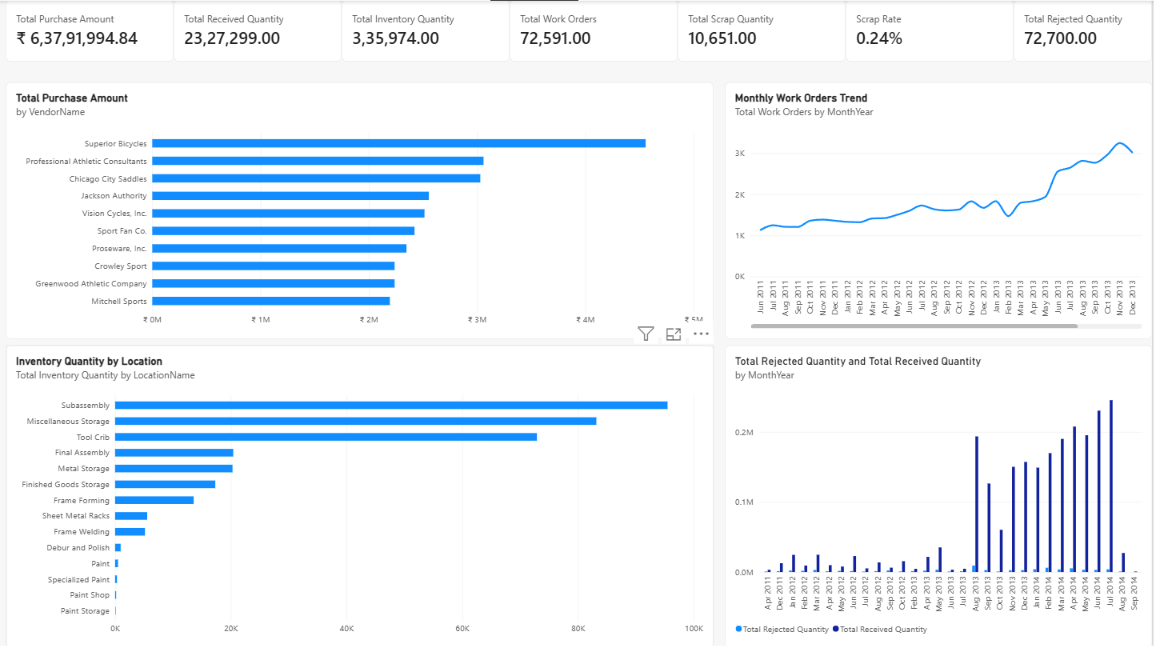

The page's visual inventory and layout, read from the dashboard file:
{"tool":"powerbi","page":{"name":"Supply Chain & Operations","canvas":[1920,1080],"ordinal":4},"visuals":[{"type":"cardVisual","title":"Total Purchase Amount.","fields":{"Data":["fact FactPurchases.Total Purchase Amount"]},"box":[10.3,0,279.9,105],"z":0},{"type":"cardVisual","title":"Total Purchase Amount.","fields":{"Data":["fact FactPurchases.Total Received Quantity"]},"box":[290.2,0,279.9,105],"z":1},{"type":"cardVisual","title":"Total Purchase Amount.","fields":{"Data":["fact FactInventory.Total Inventory Quantity"]},"box":[570.2,0,279.9,105],"z":2},{"type":"cardVisual","title":"Total Purchase Amount.","fields":{"Data":["fact FactWorkOrders.Total Work Orders"]},"box":[850.1,0,279.9,105],"z":3},{"type":"cardVisual","title":"Total Purchase Amount.","fields":{"Data":["fact FactWorkOrders.Total Scrap Quantity"]},"box":[1130,0,279.9,105],"z":4},{"type":"cardVisual","title":"Total Purchase Amount.","fields":{"Data":["fact FactWorkOrders.Scrap Rate"]},"box":[1410,0,279.9,105],"z":5},{"type":"clusteredBarChart","fields":{"Category":["dim DimVendor.VendorName"],"Y":["fact FactPurchases.Total Purchase Amount"]},"box":[10.3,137.9,1179.4,428.1],"z":6},{"type":"clusteredBarChart","title":"Inventory Quantity by Location","fields":{"Category":["dim DimLocation.LocationName"],"Y":["fact FactInventory.Total Inventory Quantity"]},"box":[10.3,576.3,1179.4,504.3],"z":7},{"type":"lineChart","title":"Monthly Work Orders Trend","fields":{"Category":["dim DimDate.MonthYear"],"Y":["fact FactWorkOrders.Total Work Orders"]},"box":[1208.2,137.9,712.2,428.1],"z":8},{"type":"cardVisual","title":"Total Purchase Amount.","fields":{"Data":["fact FactPurchases.Total Rejected Quantity"]},"box":[1689.9,0,230.5,105],"z":9},{"type":"clusteredColumnChart","fields":{"Category":["dim DimDate.MonthYear"],"Y":["fact FactPurchases.Total Rejected Quantity","fact FactPurchases.Total Received Quantity"]},"box":[1208.2,576.3,712.2,504.3],"z":10}]}

Visuals, with their boxes in screenshot pixels (x1, y1, x2, y2), scaled from the page's 1920x1080 canvas onto the 1154x646 screenshot:
"Total Purchase Amount." cardVisual: Rect(6, 0, 174, 63)
"Total Purchase Amount." cardVisual: Rect(174, 0, 343, 63)
"Total Purchase Amount." cardVisual: Rect(343, 0, 511, 63)
"Total Purchase Amount." cardVisual: Rect(511, 0, 679, 63)
"Total Purchase Amount." cardVisual: Rect(679, 0, 847, 63)
"Total Purchase Amount." cardVisual: Rect(847, 0, 1016, 63)
clusteredBarChart - dim DimVendor.VendorName x fact FactPurchases.Total Purchase Amount: Rect(6, 82, 715, 339)
"Inventory Quantity by Location" clusteredBarChart: Rect(6, 345, 715, 645)
"Monthly Work Orders Trend" lineChart: Rect(726, 82, 1153, 339)
"Total Purchase Amount." cardVisual: Rect(1016, 0, 1153, 63)
clusteredColumnChart - dim DimDate.MonthYear x fact FactPurchases.Total Rejected Quantity: Rect(726, 345, 1153, 645)
